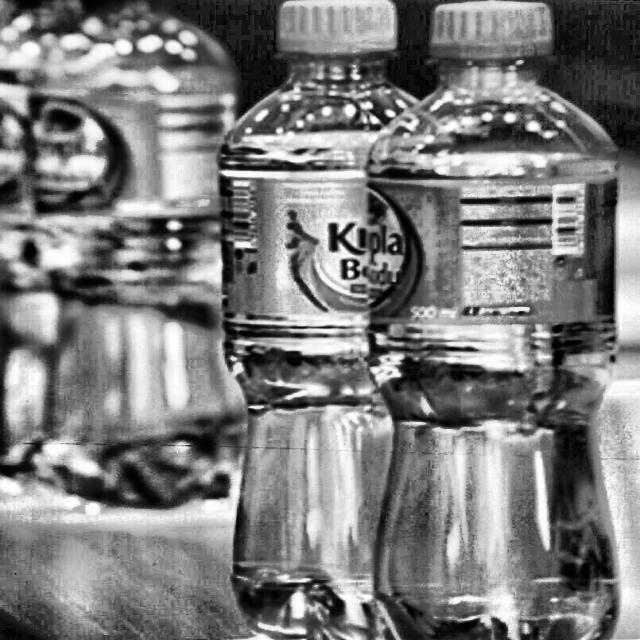waterbottle: (368, 1, 619, 640), (222, 0, 416, 640), (31, 0, 243, 509)
